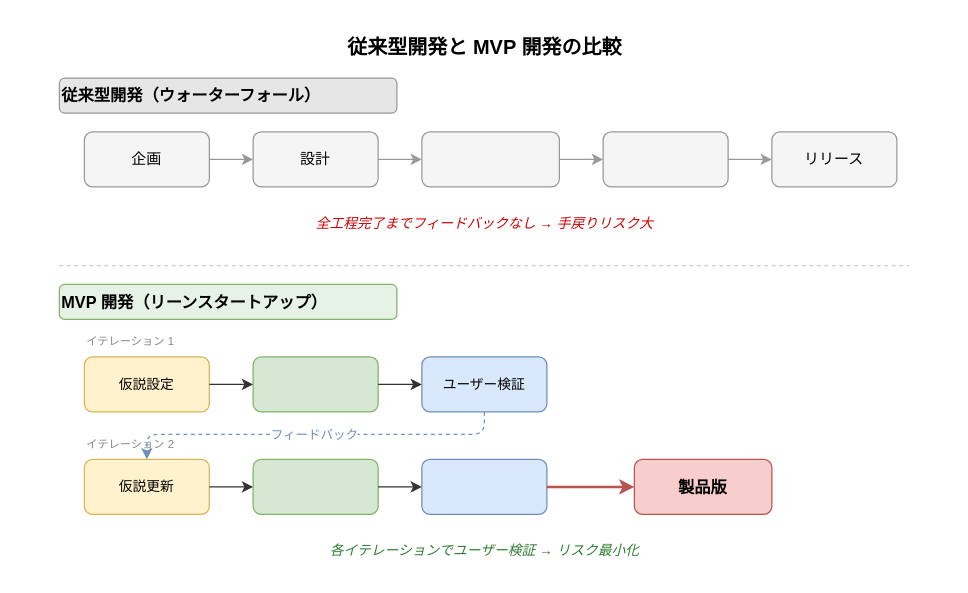
Some shapes in this 968 by 593 pixel diagram are drawn without their labels. The shapes that lost their labels are listed below. From the top down, each one's box as (x1, y1, x2, y2) in pixels, then its label:
(421, 131, 559, 187): 開発（全機能）
(602, 131, 728, 187): テスト
(252, 356, 378, 412): MVP 構築
(252, 458, 378, 514): MVP 改善
(421, 458, 547, 514): 再検証
